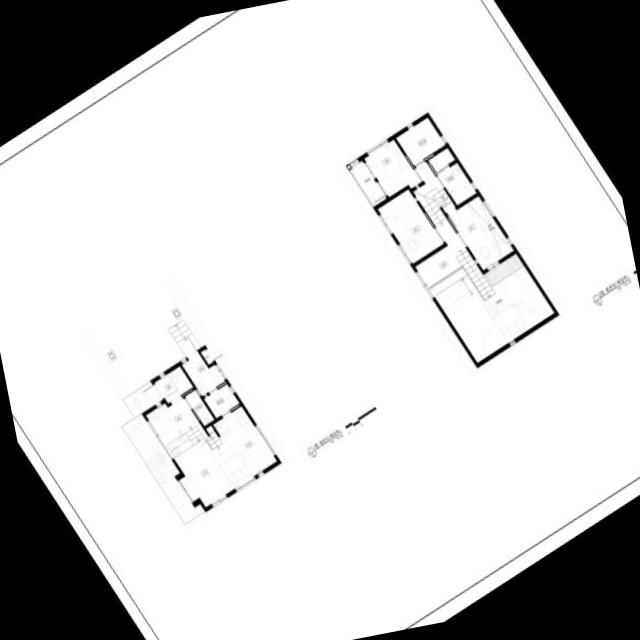background: (0, 0, 640, 640)
space_bedroom: (377, 189, 444, 263), (448, 195, 514, 270), (364, 139, 421, 197)
space_dressroom: (396, 117, 445, 165)
space_front: (154, 366, 193, 403)
space_kitchen: (212, 406, 277, 487), (173, 437, 236, 507)
space_living_room: (145, 397, 200, 457), (415, 161, 436, 183)
space_multipurpose_space: (204, 383, 239, 418)
space_other: (429, 253, 554, 362), (415, 217, 467, 287), (181, 353, 225, 396), (350, 160, 386, 206), (200, 349, 213, 364)
space_staircase: (413, 176, 455, 225), (456, 250, 495, 300), (186, 423, 222, 449)
space_toilet: (428, 147, 476, 205), (185, 389, 214, 426)
